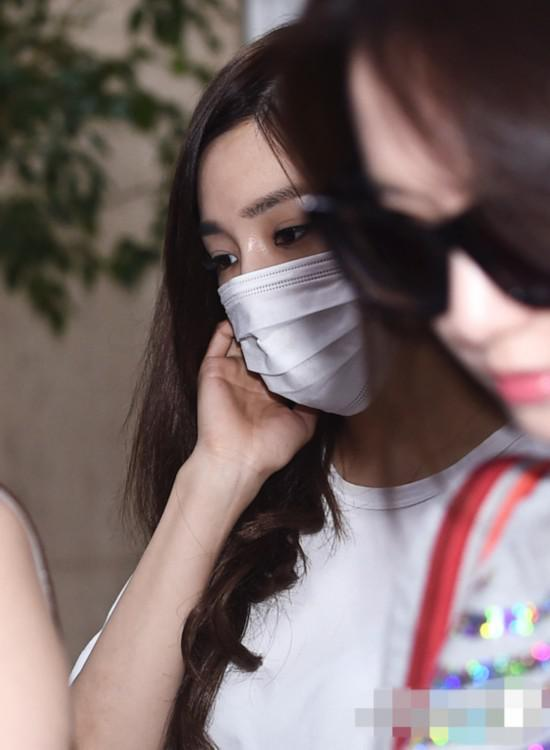NONE: (373, 181, 550, 444)
OK: (200, 186, 418, 404)
